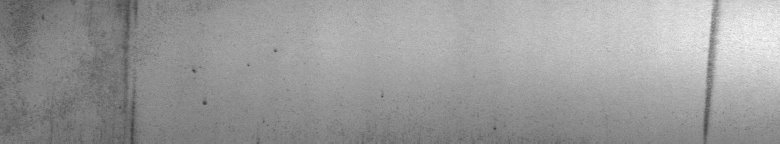hd: (697, 4, 724, 136)
